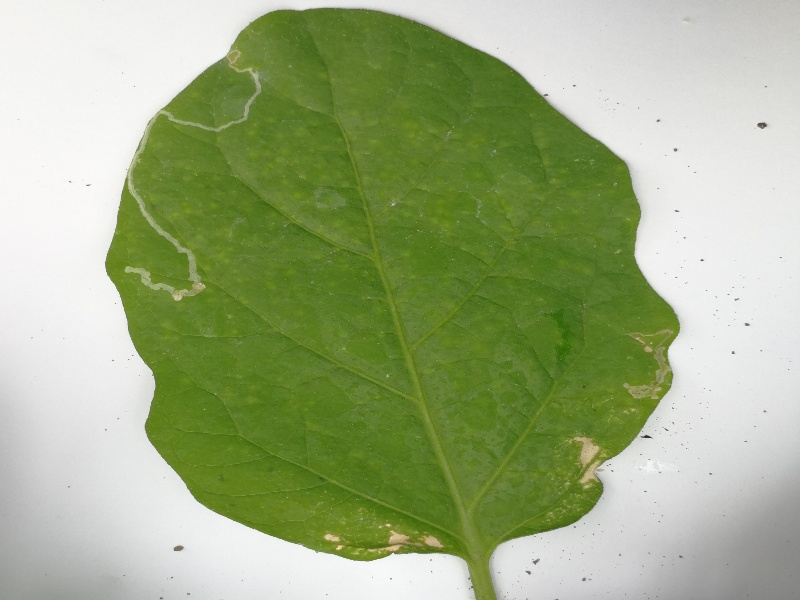leafminer: (122, 37, 262, 305)
